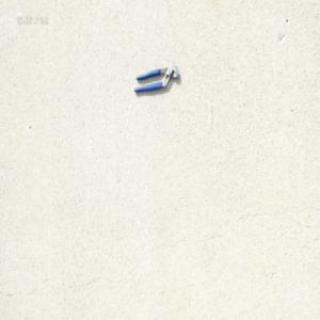Pliertrack_idkeyframe: (132, 61, 178, 93)
